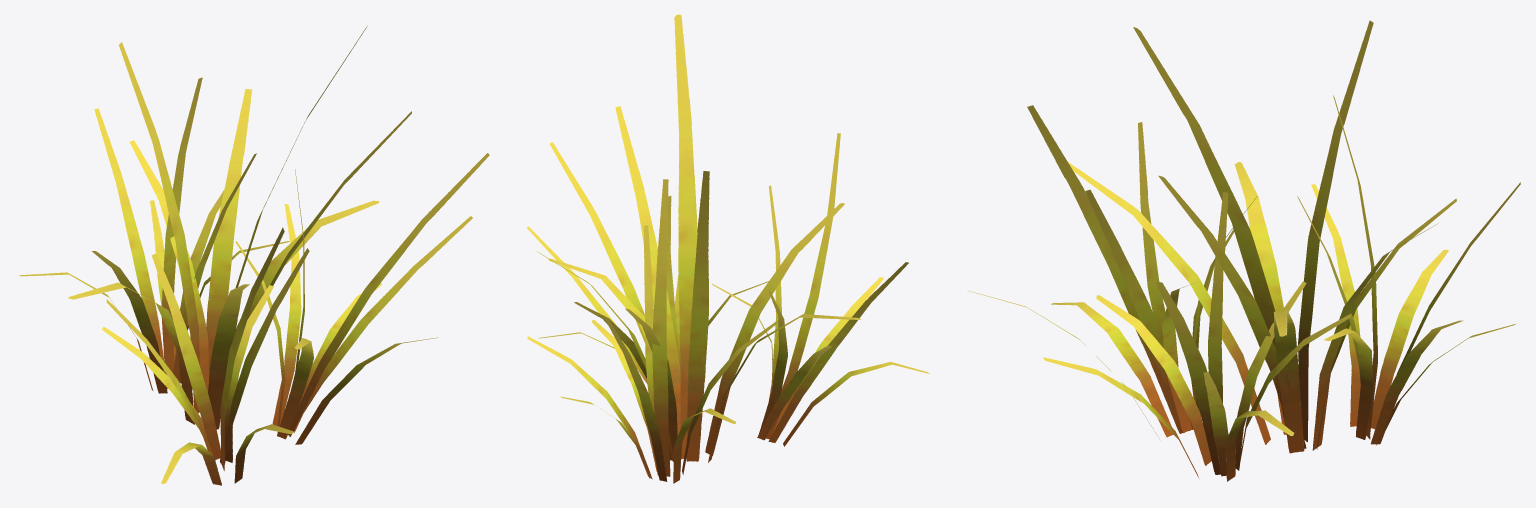
Rendered from long grass.fbx.
The picture shows the model from 3 angles, left to right: view 1: azimuth 30°, elevation 25°; view 2: azimuth 150°, elevation 25°; view 3: azimuth 270°, elevation 25°; orthographic projection. The views are drawn at different scales.
Visible parts, largest first — view 1: foliage_big; view 2: foliage_big; view 3: foliage_big.
Boxes of the visible parts, left/top/right/bottom form: foliage_big: left=19, top=26, right=489, bottom=485; foliage_big: left=527, top=14, right=929, bottom=483; foliage_big: left=967, top=20, right=1520, bottom=481.
Bounding box in the file's own units: 177 × 188 × 193.
